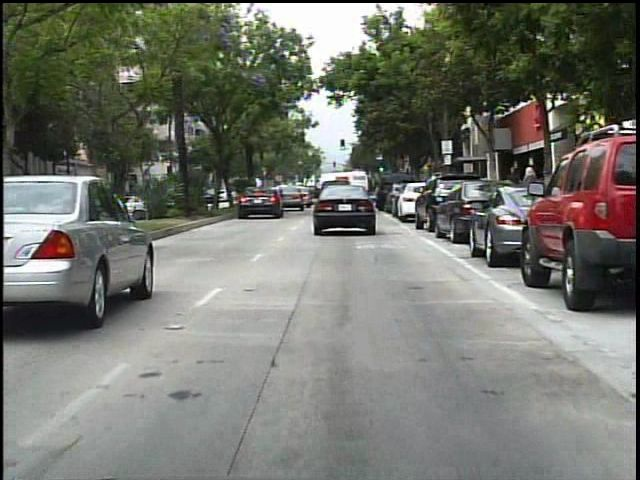person: (519, 162, 546, 220), (500, 159, 525, 221)
